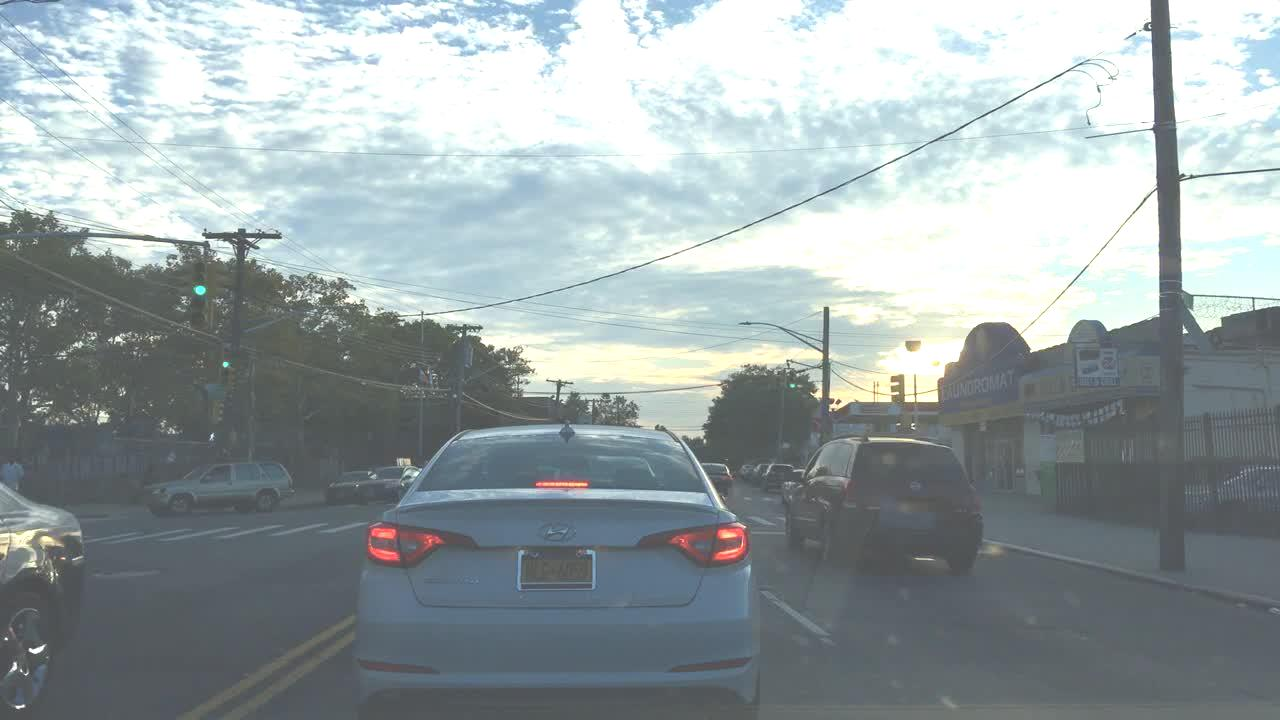Hyundai: (525, 517, 585, 545)
